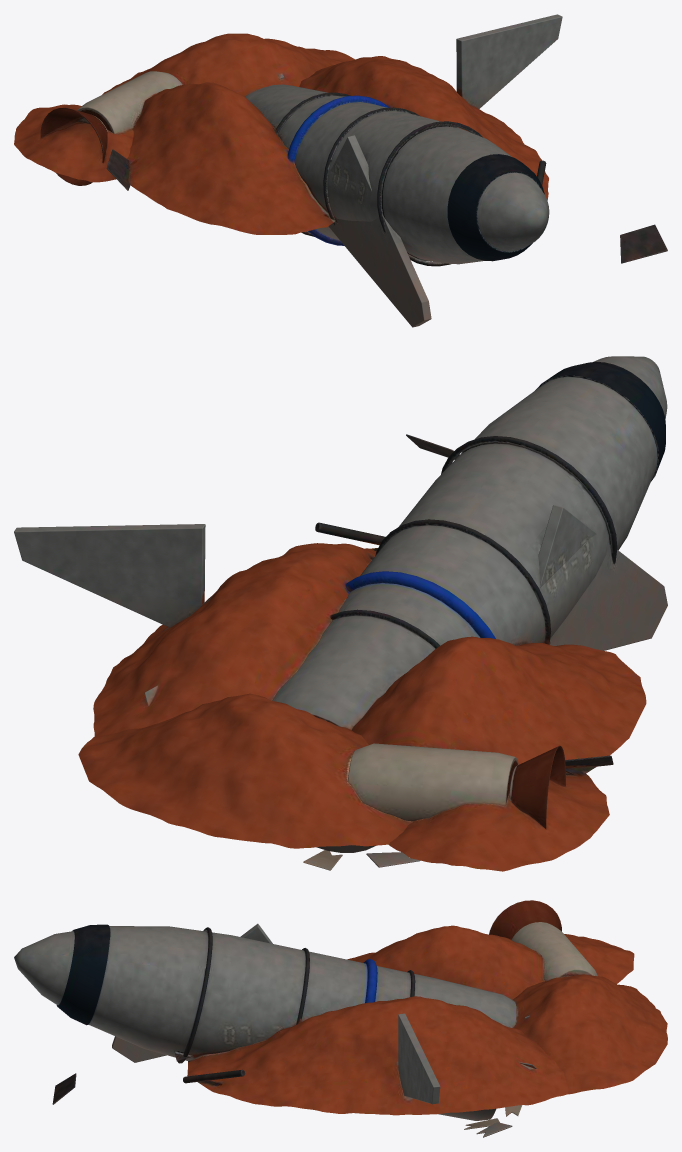
The model's file is ship_wreck.glb.
The picture shows the model from 3 angles, top to bottom: view 1: azimuth 30°, elevation 25°; view 2: azimuth 150°, elevation 25°; view 3: azimuth 270°, elevation 25°; orthographic projection. The views are drawn at different scales.
Parts seen in each view (by area): view 1: ship_wreck; view 2: ship_wreck; view 3: ship_wreck.
Part boxes in pixels (x1,y1,x2,y2): ship_wreck: (14, 14, 667, 327); ship_wreck: (14, 356, 667, 871); ship_wreck: (14, 900, 667, 1137).
Bounding box in the file's own units: 12.56 × 5.31 × 15.67.
2 materials, 2 textured.
